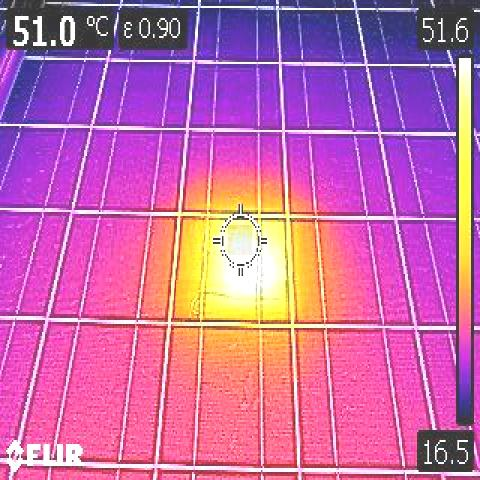fault: (176, 280, 288, 326), (228, 226, 253, 256)
